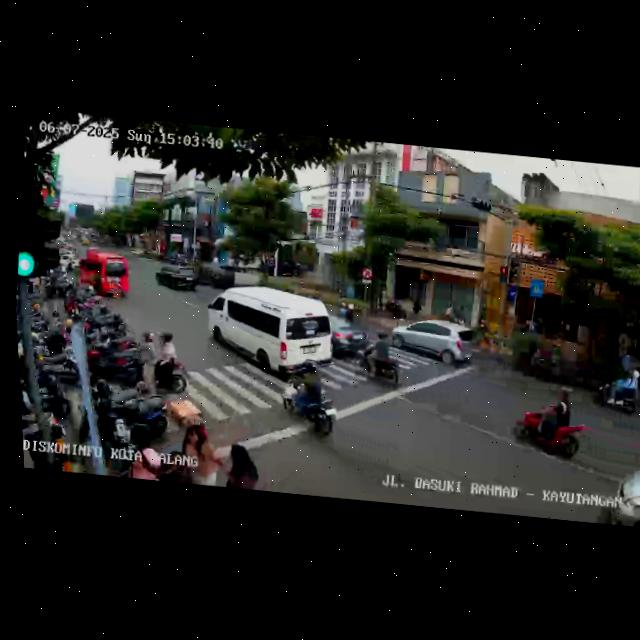car: (195, 279, 344, 386), (386, 314, 475, 372), (72, 249, 133, 301), (319, 313, 372, 362), (607, 462, 640, 528), (152, 261, 200, 295)
motorcycle: (510, 392, 592, 465), (276, 359, 344, 437), (352, 326, 408, 388), (586, 359, 640, 418), (147, 330, 192, 397)
person: (213, 435, 268, 490), (177, 425, 221, 485), (122, 424, 165, 480)
